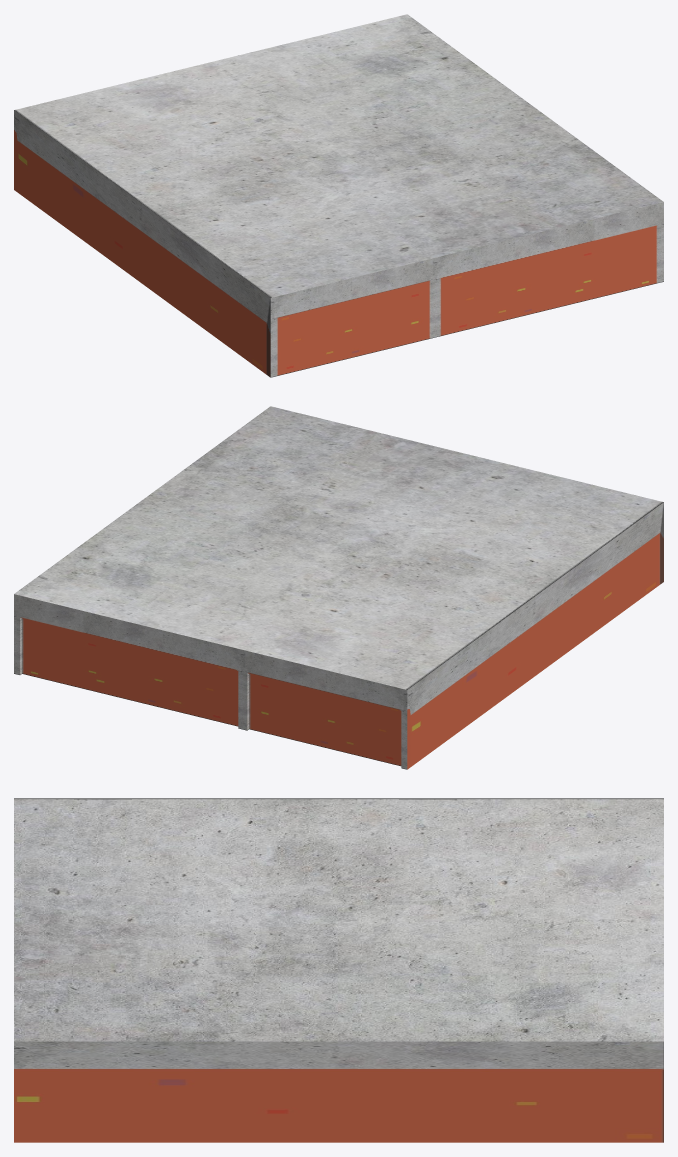
Rendered from edif-14.2.fbx.
The picture shows the model from 3 angles, top to bottom: view 1: azimuth 30°, elevation 25°; view 2: azimuth 150°, elevation 25°; view 3: azimuth 270°, elevation 25°; orthographic projection. The views are drawn at different scales.
Visible parts, largest first — view 1: polySurface149; view 2: polySurface149; view 3: polySurface149.
Part boxes in pixels (x1=…): polySurface149: x1=14, y1=14, x2=663, y2=377; polySurface149: x1=14, y1=406, x2=663, y2=769; polySurface149: x1=14, y1=798, x2=663, y2=1142.
Size of the model in its own units: 257 by 49.86 by 291.
1 material, 1 textured.
